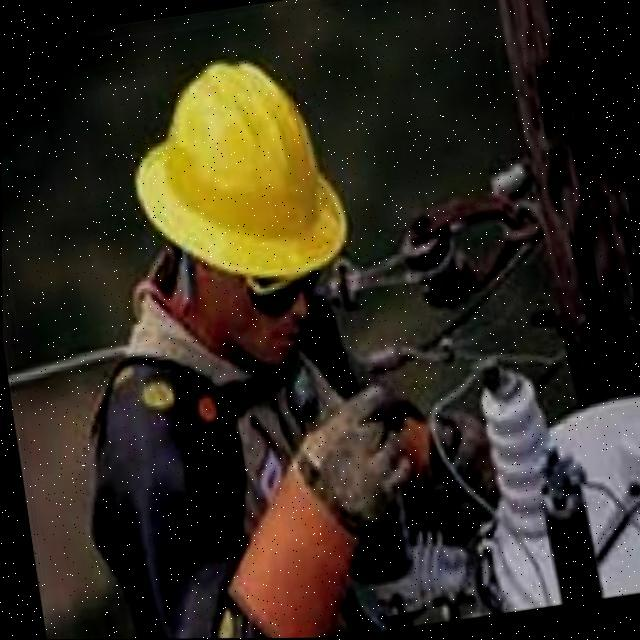goggles_on: (189, 246, 327, 324)
